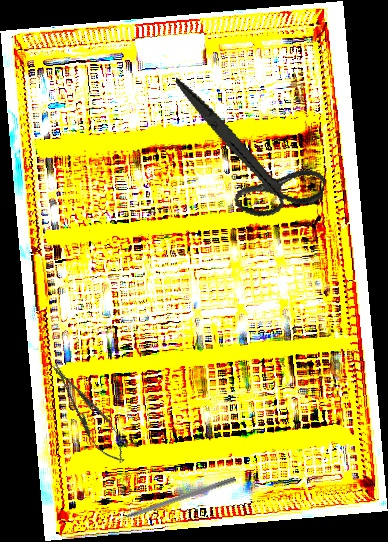Iris Scissors: (149, 76, 342, 230)
Needle Holder: (42, 356, 135, 470)
Pusher: (104, 474, 237, 527)
